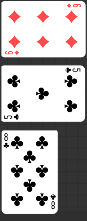5C: (64, 66, 82, 74)
8C: (50, 192, 57, 210)
